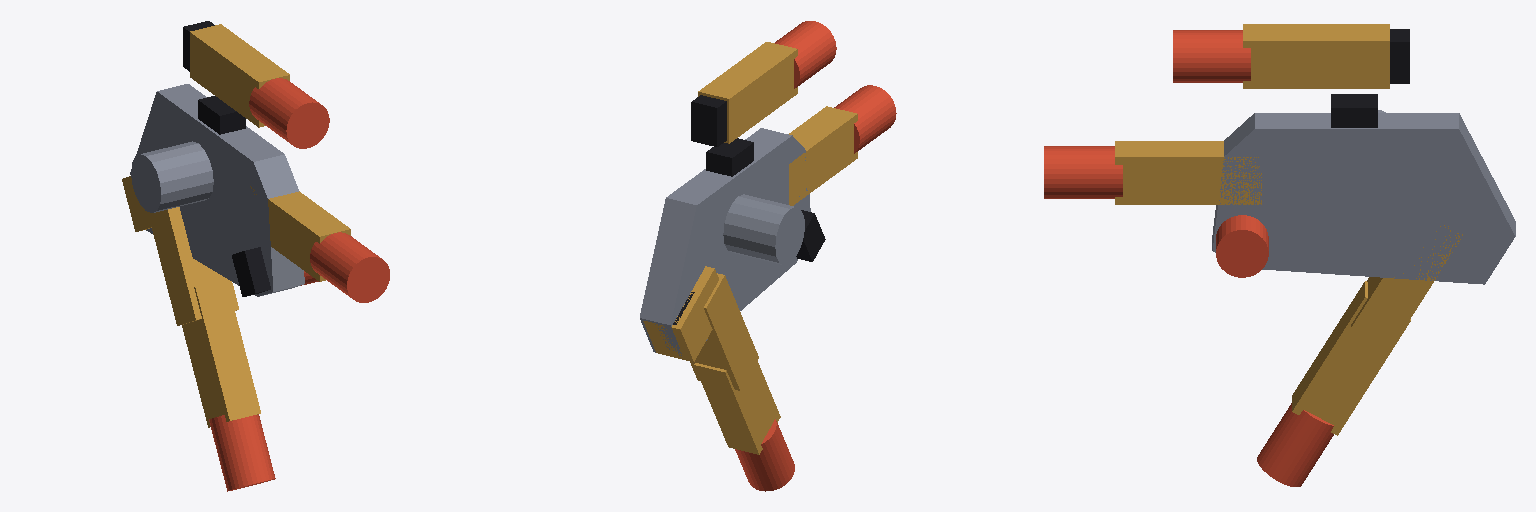
URDF robot description (g0017_c05):
<robot name="g0017_c05">
  <link name="palm">
    <visual name="palm_palm1">
      <origin xyz="0 0 0" rpy="0 0 0" />
      <geometry>
        <mesh filename="palm_palm1.obj" />
      </geometry>
      <material name="palm_palm1_mat">
        <color rgba="0.55 0.57 0.62 1" />
      </material>
    </visual>
    <collision>
      <origin xyz="0 0 0" rpy="0 0 0" />
      <geometry>
        <mesh filename="palm_palm1.obj" />
      </geometry>
    </collision>
    <visual name="palm_mount2">
      <origin xyz="0 0 0" rpy="0 0 0" />
      <geometry>
        <mesh filename="palm_mount2.obj" />
      </geometry>
      <material name="palm_mount2_mat">
        <color rgba="0.55 0.57 0.62 1" />
      </material>
    </visual>
    <collision>
      <origin xyz="0 0 0" rpy="0 0 0" />
      <geometry>
        <mesh filename="palm_mount2.obj" />
      </geometry>
    </collision>
    <visual name="palm_hinge3">
      <origin xyz="0 -0.01 0.0325" rpy="-1.57079633 -6.123234e-17 1.57079633" />
      <geometry>
        <box size="0.029 0.034 0.02" />
      </geometry>
      <material name="palm_hinge3_mat">
        <color rgba="0.15 0.15 0.17 1" />
      </material>
    </visual>
    <collision>
      <origin xyz="0 -0.01 0.0325" rpy="-1.57079633 -6.123234e-17 1.57079633" />
      <geometry>
        <box size="0.029 0.034 0.02" />
      </geometry>
    </collision>
    <visual name="palm_motor4">
      <origin xyz="-0.007 -0.08 -0.04" rpy="1.06057524e-16 -1.04719755 1.57079633" />
      <geometry>
        <box size="0.029 0.034 0.02" />
      </geometry>
      <material name="palm_motor4_mat">
        <color rgba="0.15 0.15 0.17 1" />
      </material>
    </visual>
    <collision>
      <origin xyz="-0.007 -0.08 -0.04" rpy="1.06057524e-16 -1.04719755 1.57079633" />
      <geometry>
        <box size="0.029 0.034 0.02" />
      </geometry>
    </collision>
    <visual name="palm_motor5">
      <origin xyz="0 -0.0725 1.37772765e-18" rpy="-0 -1.57079633 0" />
      <geometry>
        <box size="0.029 0.034 0.02" />
      </geometry>
      <material name="palm_motor5_mat">
        <color rgba="0.15 0.15 0.17 1" />
      </material>
    </visual>
    <collision>
      <origin xyz="0 -0.0725 1.37772765e-18" rpy="-0 -1.57079633 0" />
      <geometry>
        <box size="0.029 0.034 0.02" />
      </geometry>
    </collision>
    <visual name="palm_motor6">
      <origin xyz="-0.0045 0.0666996732 -0.0467548095" rpy="1.57079633 -0.523598776 -1.57079633" />
      <geometry>
        <box size="0.029 0.034 0.02" />
      </geometry>
      <material name="palm_motor6_mat">
        <color rgba="0.15 0.15 0.17 1" />
      </material>
    </visual>
    <collision>
      <origin xyz="-0.0045 0.0666996732 -0.0467548095" rpy="1.57079633 -0.523598776 -1.57079633" />
      <geometry>
        <box size="0.029 0.034 0.02" />
      </geometry>
    </collision>
    <inertial>
      <origin xyz="-2.17454956e-20 -0.00623898334 -0.016957674" rpy="1.57079633 0.0968853606 1.57079633" />
      <mass value="0.710064513" />
      <inertia ixx="0.000600315721" ixy="0" ixz="0" iyy="0.00174156363" iyz="0" izz="0.00227371316" />
    </inertial>
  </link>
  <link name="palm0">
    <visual name="palm0_palm1">
      <origin xyz="0 0 0" rpy="0 0 0" />
      <geometry>
        <mesh filename="palm0_palm1.obj" />
      </geometry>
      <material name="palm0_palm1_mat">
        <color rgba="0.55 0.57 0.62 1" />
      </material>
    </visual>
    <collision>
      <origin xyz="0 0 0" rpy="0 0 0" />
      <geometry>
        <mesh filename="palm0_palm1.obj" />
      </geometry>
    </collision>
    <visual name="palm0_motor2">
      <origin xyz="0 0.0175 0.04" rpy="-0 -1.57079633 0" />
      <geometry>
        <box size="0.029 0.034 0.02" />
      </geometry>
      <material name="palm0_motor2_mat">
        <color rgba="0.15 0.15 0.17 1" />
      </material>
    </visual>
    <collision>
      <origin xyz="0 0.0175 0.04" rpy="-0 -1.57079633 0" />
      <geometry>
        <box size="0.029 0.034 0.02" />
      </geometry>
    </collision>
    <inertial>
      <origin xyz="0 0.00947976614 0.0260154408" rpy="-1.57079633 -0.128304097 1.57079633" />
      <mass value="0.167707261" />
      <inertia ixx="4.17511985e-05" ixy="0" ixz="0" iyy="0.000114075827" iyz="0" izz="0.000139727128" />
    </inertial>
  </link>
  <link name="f0_link0">
    <visual name="f0_link0_link1">
      <origin xyz="0.019 0 -6.9388939e-18" rpy="-1.57079633 -0 -1.57079633" />
      <geometry>
        <cylinder radius="0.0165" length="0.029" />
      </geometry>
      <material name="f0_link0_link1_mat">
        <color rgba="0.85 0.35 0.25 1" />
      </material>
    </visual>
    <collision>
      <origin xyz="0.019 0 -6.9388939e-18" rpy="-1.57079633 -0 -1.57079633" />
      <geometry>
        <cylinder radius="0.0165" length="0.029" />
      </geometry>
    </collision>
    <inertial>
      <origin xyz="0.019 0 0" rpy="0 0 0" />
      <mass value="0.0763354" />
      <inertia ixx="9.49466441e-06" ixy="0" ixz="0" iyy="2.24143997e-05" iyz="0" izz="2.24143997e-05" />
    </inertial>
  </link>
  <link name="f1_link0">
    <visual name="f1_link0_link1">
      <origin xyz="0.03375 0 0" rpy="0 -0 0" />
      <geometry>
        <box size="0.0915 0.024 0.033" />
      </geometry>
      <material name="f1_link0_link1_mat">
        <color rgba="0.80 0.62 0.30 1" />
      </material>
    </visual>
    <collision>
      <origin xyz="0.03375 0 0" rpy="0 -0 0" />
      <geometry>
        <box size="0.0915 0.024 0.033" />
      </geometry>
    </collision>
    <inertial>
      <origin xyz="0.03375 0 0" rpy="0 0 0" />
      <mass value="0.126819" />
      <inertia ixx="1.75961363e-05" ixy="0" ixz="0" iyy="9.99888553e-05" iyz="0" izz="9.45673431e-05" />
    </inertial>
  </link>
  <link name="f1_link1">
    <visual name="f1_link1_link1">
      <origin xyz="0.029 0 -1.54074396e-33" rpy="-1.57079633 -0 -1.57079633" />
      <geometry>
        <cylinder radius="0.0165" length="0.049" />
      </geometry>
      <material name="f1_link1_link1_mat">
        <color rgba="0.85 0.35 0.25 1" />
      </material>
    </visual>
    <collision>
      <origin xyz="0.029 0 -1.54074396e-33" rpy="-1.57079633 -0 -1.57079633" />
      <geometry>
        <cylinder radius="0.0165" length="0.049" />
      </geometry>
    </collision>
    <inertial>
      <origin xyz="0.029 0 0" rpy="0 0 0" />
      <mass value="0.106270851" />
      <inertia ixx="1.35696277e-05" ixy="0" ixz="0" iyy="5.30015704e-05" iyz="0" izz="5.30015704e-05" />
    </inertial>
  </link>
  <link name="f2_link0">
    <visual name="f2_link0_link1">
      <origin xyz="0.03375 0 0" rpy="0 -0 0" />
      <geometry>
        <box size="0.0915 0.024 0.033" />
      </geometry>
      <material name="f2_link0_link1_mat">
        <color rgba="0.80 0.62 0.30 1" />
      </material>
    </visual>
    <collision>
      <origin xyz="0.03375 0 0" rpy="0 -0 0" />
      <geometry>
        <box size="0.0915 0.024 0.033" />
      </geometry>
    </collision>
    <inertial>
      <origin xyz="0.03375 0 0" rpy="0 0 0" />
      <mass value="0.126819" />
      <inertia ixx="1.75961363e-05" ixy="0" ixz="0" iyy="9.99888553e-05" iyz="0" izz="9.45673431e-05" />
    </inertial>
  </link>
  <link name="f2_link1">
    <visual name="f2_link1_link1">
      <origin xyz="0.029 0 0" rpy="-1.57079633 -0 -1.57079633" />
      <geometry>
        <cylinder radius="0.0165" length="0.049" />
      </geometry>
      <material name="f2_link1_link1_mat">
        <color rgba="0.85 0.35 0.25 1" />
      </material>
    </visual>
    <collision>
      <origin xyz="0.029 0 0" rpy="-1.57079633 -0 -1.57079633" />
      <geometry>
        <cylinder radius="0.0165" length="0.049" />
      </geometry>
    </collision>
    <inertial>
      <origin xyz="0.029 0 0" rpy="0 0 0" />
      <mass value="0.106270851" />
      <inertia ixx="1.35696277e-05" ixy="0" ixz="0" iyy="5.30015704e-05" iyz="0" izz="5.30015704e-05" />
    </inertial>
  </link>
  <link name="f3_link0">
    <visual name="f3_link0_link1">
      <origin xyz="-0.00625 0 -0.0165" rpy="0 4.06369831e-17 0" />
      <geometry>
        <box size="0.0365 0.029 0.053" />
      </geometry>
      <material name="f3_link0_link1_mat">
        <color rgba="0.80 0.62 0.30 1" />
      </material>
    </visual>
    <collision>
      <origin xyz="-0.00625 0 -0.0165" rpy="0 4.06369831e-17 0" />
      <geometry>
        <box size="0.0365 0.029 0.053" />
      </geometry>
    </collision>
    <inertial>
      <origin xyz="-0.00625 0 -0.0165" rpy="0 0 0" />
      <mass value="0.098175875" />
      <inertia ixx="2.98618286e-05" ixy="0" ixz="0" iyy="3.38809035e-05" iyz="0" izz="1.778006e-05" />
    </inertial>
  </link>
  <link name="f3_link1">
    <visual name="f3_link1_link1">
      <origin xyz="0.03375 0 6.9388939e-18" rpy="0 4.06369831e-17 0" />
      <geometry>
        <box size="0.0915 0.033 0.029" />
      </geometry>
      <material name="f3_link1_link1_mat">
        <color rgba="0.80 0.62 0.30 1" />
      </material>
    </visual>
    <collision>
      <origin xyz="0.03375 0 6.9388939e-18" rpy="0 4.06369831e-17 0" />
      <geometry>
        <box size="0.0915 0.033 0.029" />
      </geometry>
    </collision>
    <inertial>
      <origin xyz="0.03375 0 0" rpy="0 0 0" />
      <mass value="0.153239625" />
      <inertia ixx="2.46460397e-05" ixy="0" ixz="0" iyy="0.000117652915" iyz="0" izz="0.000120819867" />
    </inertial>
  </link>
  <link name="f3_link2">
    <visual name="f3_link2_link1">
      <origin xyz="0.03375 0 -1.38777878e-17" rpy="0 4.06369831e-17 0" />
      <geometry>
        <box size="0.0915 0.024 0.033" />
      </geometry>
      <material name="f3_link2_link1_mat">
        <color rgba="0.80 0.62 0.30 1" />
      </material>
    </visual>
    <collision>
      <origin xyz="0.03375 0 -1.38777878e-17" rpy="0 4.06369831e-17 0" />
      <geometry>
        <box size="0.0915 0.024 0.033" />
      </geometry>
    </collision>
    <inertial>
      <origin xyz="0.03375 0 0" rpy="0 0 0" />
      <mass value="0.126819" />
      <inertia ixx="1.75961363e-05" ixy="0" ixz="0" iyy="9.99888553e-05" iyz="0" izz="9.45673431e-05" />
    </inertial>
  </link>
  <link name="f3_link3">
    <visual name="f3_link3_link1">
      <origin xyz="0.029 0 1.04083409e-17" rpy="-1.57079633 -0 -1.57079633" />
      <geometry>
        <cylinder radius="0.0165" length="0.049" />
      </geometry>
      <material name="f3_link3_link1_mat">
        <color rgba="0.85 0.35 0.25 1" />
      </material>
    </visual>
    <collision>
      <origin xyz="0.029 0 1.04083409e-17" rpy="-1.57079633 -0 -1.57079633" />
      <geometry>
        <cylinder radius="0.0165" length="0.049" />
      </geometry>
    </collision>
    <inertial>
      <origin xyz="0.029 0 0" rpy="0 0 0" />
      <mass value="0.106270851" />
      <inertia ixx="1.35696277e-05" ixy="0" ixz="0" iyy="5.30015704e-05" iyz="0" izz="5.30015704e-05" />
    </inertial>
  </link>
  <joint name="palm0_joint" type="revolute">
    <parent link="palm" />
    <child link="palm0" />
    <origin xyz="0 -0.01 0.04" rpy="0 0 0" />
    <axis xyz="0 1 6.123234e-17" />
    <limit effort="0.5" lower="-0.523598776" upper="0.523598776" velocity="5" />
    <dynamics damping="0.0775033" friction="0" />
  </joint>
  <joint name="f0_j0" type="revolute">
    <parent link="palm" />
    <child link="f0_link0" />
    <origin xyz="0.0005 -0.08 -0.04" rpy="1.04719755 5.30287619e-17 -3.061617e-17" />
    <axis xyz="0 1 6.123234e-17" />
    <limit effort="0.5" lower="-0.523598776" upper="0.523598776" velocity="5" />
    <dynamics damping="0.0775033" friction="0" />
  </joint>
  <joint name="f1_j0" type="revolute">
    <parent link="palm" />
    <child link="f1_link0" />
    <origin xyz="0 -0.08 0" rpy="0 1.8369702e-16 -1.57079633" />
    <axis xyz="0 0 1" />
    <limit effort="0.5" lower="-0.523598776" upper="1.57079633" velocity="5" />
    <dynamics damping="0.0775033" friction="0" />
  </joint>
  <joint name="f1_j1" type="revolute">
    <parent link="f1_link0" />
    <child link="f1_link1" />
    <origin xyz="0.07 0 0" rpy="0 0 0" />
    <axis xyz="0 0 1" />
    <limit effort="0.5" lower="-0.523598776" upper="1.57079633" velocity="5" />
    <dynamics damping="0.0775033" friction="0" />
  </joint>
  <joint name="f2_j0" type="revolute">
    <parent link="palm0" />
    <child link="f2_link0" />
    <origin xyz="0 0.01 0.04" rpy="0 1.8369702e-16 -1.57079633" />
    <axis xyz="0 0 1" />
    <limit effort="0.5" lower="-0.523598776" upper="1.57079633" velocity="5" />
    <dynamics damping="0.0775033" friction="0" />
  </joint>
  <joint name="f2_j1" type="revolute">
    <parent link="f2_link0" />
    <child link="f2_link1" />
    <origin xyz="0.07 0 0" rpy="0 0 0" />
    <axis xyz="0 0 1" />
    <limit effort="0.5" lower="-0.523598776" upper="1.57079633" velocity="5" />
    <dynamics damping="0.0775033" friction="0" />
  </joint>
  <joint name="f3_j0" type="revolute">
    <parent link="palm" />
    <child link="f3_link0" />
    <origin xyz="-0.0045 0.04 -0.04" rpy="0 1.04719755 -1.57079633" />
    <axis xyz="0 0 1" />
    <limit effort="0.5" lower="-0.523598776" upper="1.57079633" velocity="5" />
    <dynamics damping="0.0775033" friction="0" />
  </joint>
  <joint name="f3_j1" type="revolute">
    <parent link="f3_link0" />
    <child link="f3_link1" />
    <origin xyz="0 0 0" rpy="0 0 0" />
    <axis xyz="0 1 6.123234e-17" />
    <limit effort="0.5" lower="-0.523598776" upper="0.523598776" velocity="5" />
    <dynamics damping="0.0775033" friction="0" />
  </joint>
  <joint name="f3_j2" type="revolute">
    <parent link="f3_link1" />
    <child link="f3_link2" />
    <origin xyz="0.07 0 0" rpy="0 0 0" />
    <axis xyz="0 0 1" />
    <limit effort="0.5" lower="-0.523598776" upper="1.57079633" velocity="5" />
    <dynamics damping="0.0775033" friction="0" />
  </joint>
  <joint name="f3_j3" type="revolute">
    <parent link="f3_link2" />
    <child link="f3_link3" />
    <origin xyz="0.07 0 0" rpy="0 0 0" />
    <axis xyz="0 0 1" />
    <limit effort="0.5" lower="-0.523598776" upper="1.57079633" velocity="5" />
    <dynamics damping="0.0775033" friction="0" />
  </joint>
</robot>

--- Facts derived from the render (not from the file) ---
3 views of the same robot in one strip: view 1: azimuth 30°, elevation 25°; view 2: azimuth 150°, elevation 25°; view 3: azimuth 270°, elevation 25° (orthographic).
Robot: g0017_c05 — 11 links, 10 joints (10 revolute); root link palm; default pose: all joints at 0.
Visible links, largest first — view 1: palm, f3_link2, f2_link0, f3_link1, f1_link0, f2_link1, f1_link1, f3_link3, f3_link0; view 2: palm, f2_link0, f3_link2, f1_link0, f3_link1, f3_link0, f3_link3, f2_link1, f1_link1, palm0; view 3: palm, f2_link0, f1_link0, f3_link2, f1_link1, f2_link1, f3_link3, f3_link1, f0_link0, palm0.
Boxes of the visible links, box(x1,y1,x2,y2) form: palm: box(130, 84, 304, 296); f3_link2: box(182, 279, 260, 427); f2_link0: box(190, 24, 289, 127); f3_link1: box(148, 207, 238, 325); f1_link0: box(250, 186, 350, 281); f2_link1: box(249, 78, 329, 148); f1_link1: box(310, 232, 389, 302); f3_link3: box(209, 414, 275, 491); f3_link0: box(122, 176, 151, 231); palm: box(640, 128, 825, 355); f2_link0: box(698, 42, 797, 143); f3_link2: box(694, 361, 780, 454); f1_link0: box(789, 106, 857, 205); f3_link1: box(690, 273, 758, 390); f3_link0: box(643, 266, 718, 361); f3_link3: box(735, 419, 794, 491); f2_link1: box(775, 21, 836, 88); f1_link1: box(834, 85, 896, 153); palm0: box(691, 95, 726, 146); palm: box(1212, 94, 1515, 284); f2_link0: box(1243, 24, 1389, 88); f1_link0: box(1115, 141, 1261, 204); f3_link2: box(1292, 281, 1410, 435); f1_link1: box(1044, 146, 1122, 198); f2_link1: box(1173, 30, 1250, 82); f3_link3: box(1257, 403, 1333, 486); f3_link1: box(1351, 225, 1462, 348); f0_link0: box(1216, 215, 1268, 277); palm0: box(1390, 29, 1409, 83).
Bounding box of the posed robot: 0.086 × 0.294 × 0.3123 m (x, y, z).
2 mesh visuals loaded from 3 distinct referenced files (2 OBJ); not drawn: 1 (reference not matched to a file when rendering).
